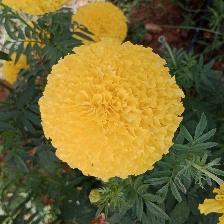marigold: (39, 42, 191, 178)
